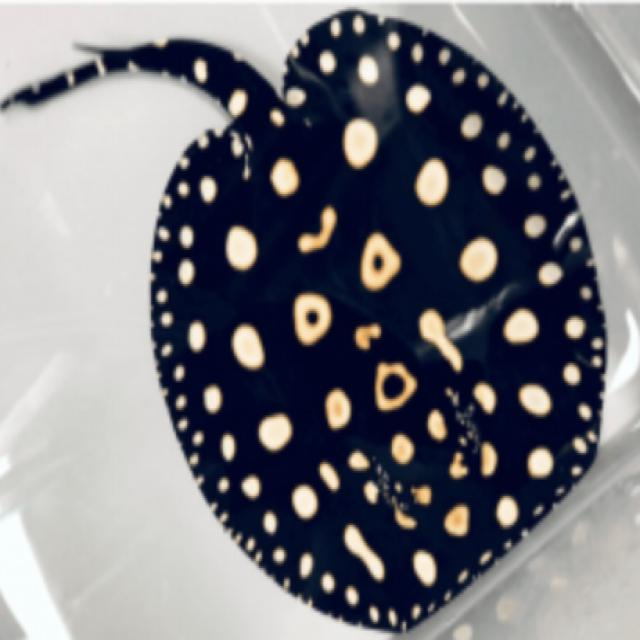black-diamond-sting-ray: (0, 3, 618, 632)
